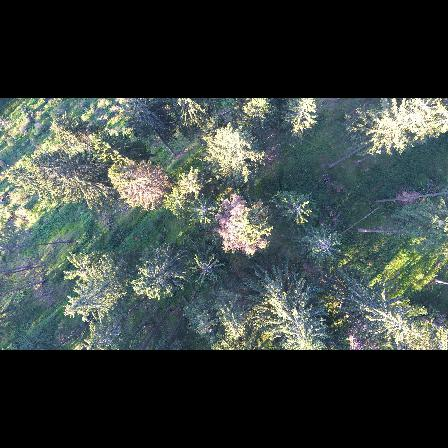Sick: (188, 254, 225, 293), (308, 231, 343, 263), (278, 196, 315, 224), (184, 196, 217, 225)
